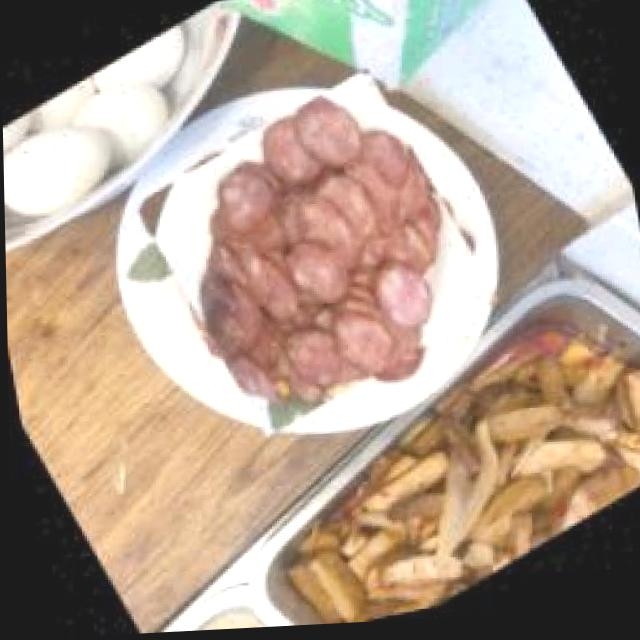chinese_sausage: (116, 52, 516, 461)
